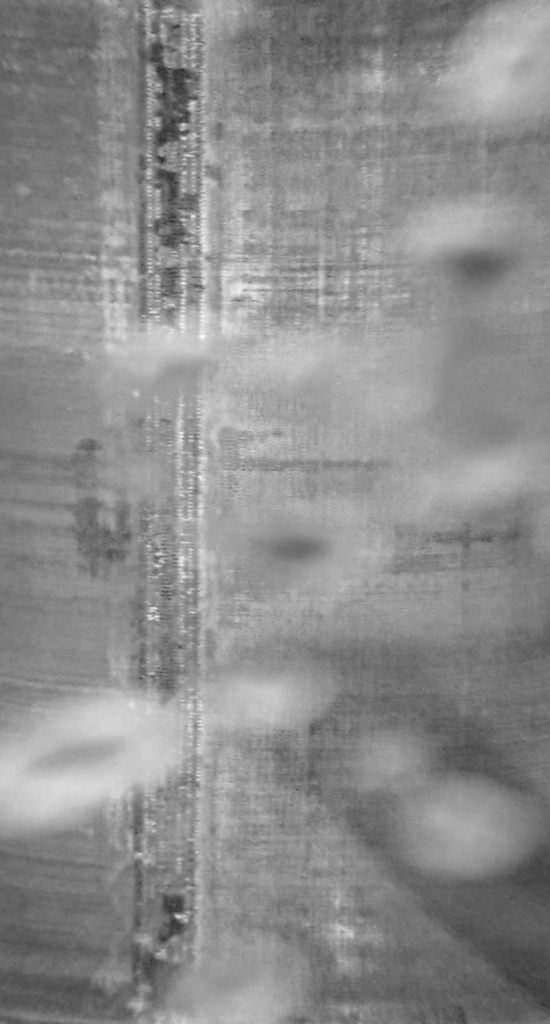splice: (122, 1, 219, 1024)
